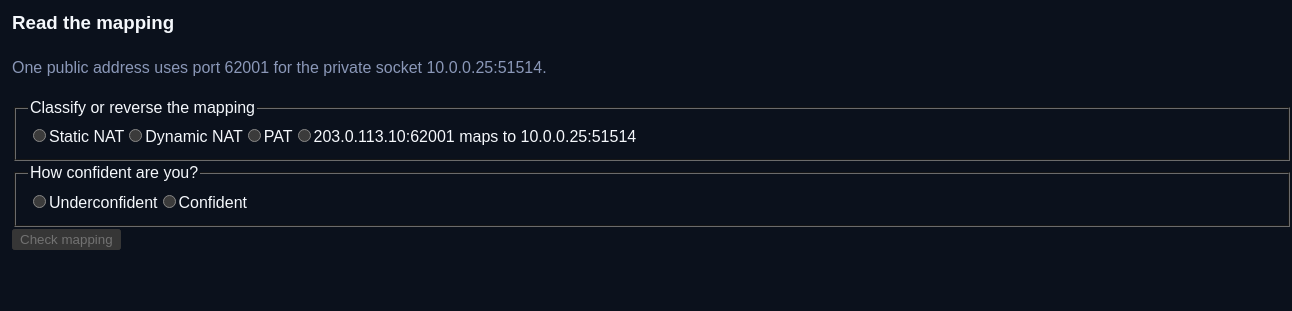
Test: NatMappingLab › checks the reverse mapping and records confidence separately
Click the radio button labelled "203.0.113.10:62001 maps to 10.0.0.25:51514" at {"x": 304, "y": 136}, box [298,129,310,142]
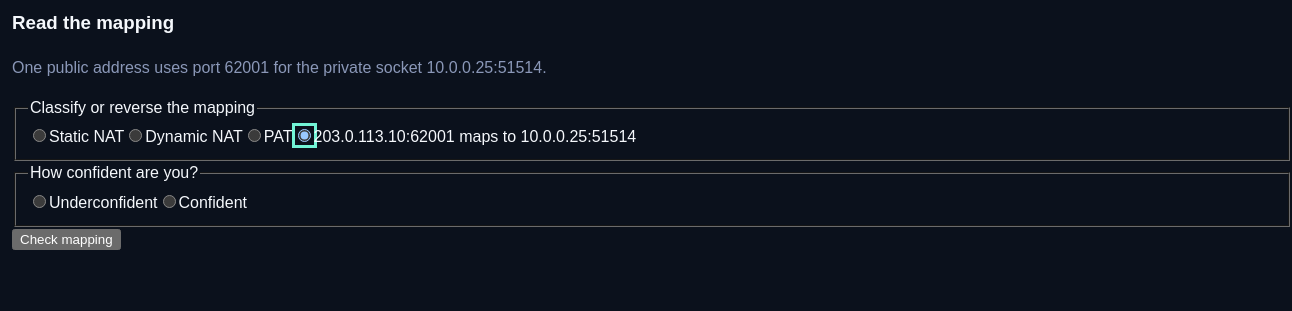
Click the radio button labelled "Underconfident" at {"x": 40, "y": 201}, box [33,195,46,208]
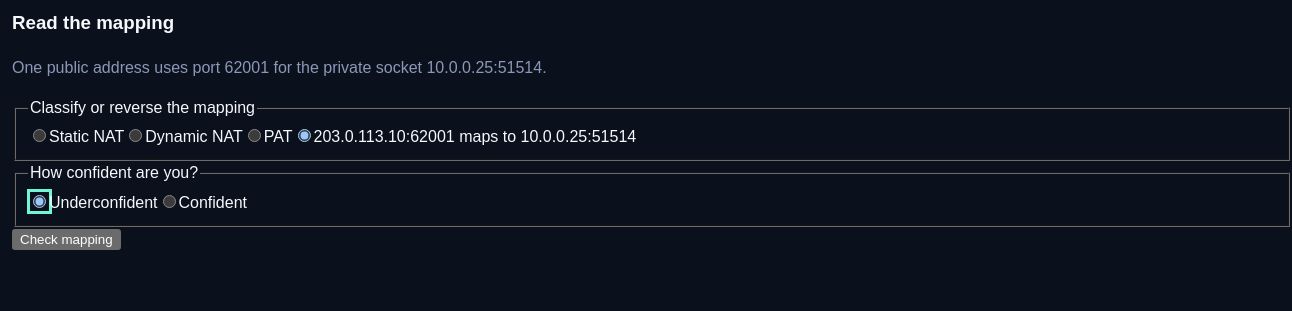
Click the button "Check mapping" at {"x": 66, "y": 239}, box [12,229,121,250]
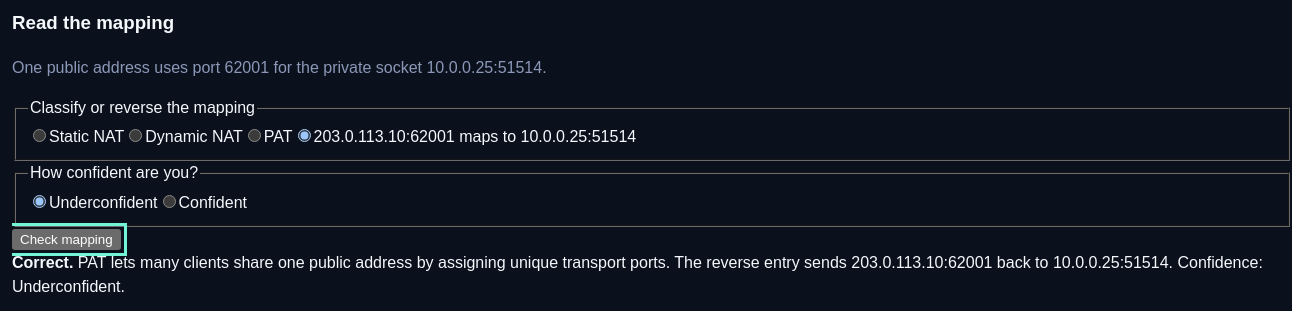
Now the message shows "Correct", box [12,254,73,271]
Now the message shows "underconfident", box [12,254,1263,295]
